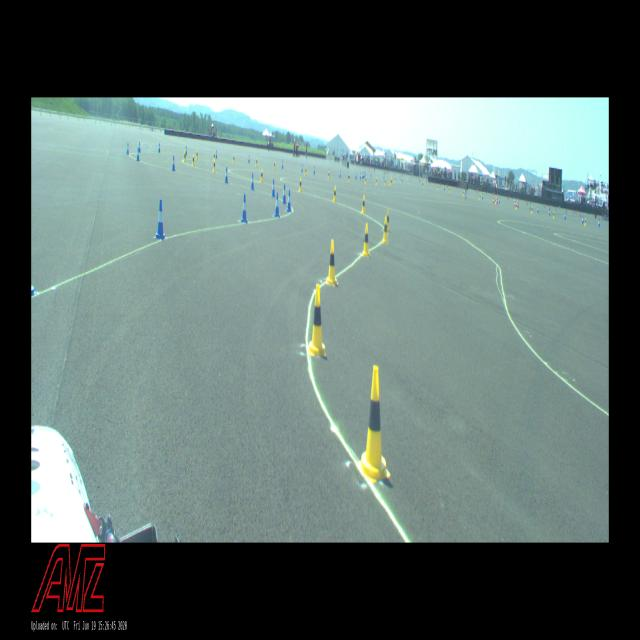blue_cone: (155, 199, 165, 239), (241, 194, 248, 223), (274, 192, 280, 218), (287, 190, 291, 211), (282, 184, 286, 204), (136, 146, 140, 160), (272, 179, 275, 197), (251, 173, 254, 190), (225, 167, 228, 183), (172, 156, 175, 170), (215, 150, 218, 159), (127, 142, 129, 154), (139, 140, 141, 152), (158, 144, 160, 152), (248, 155, 250, 163), (339, 170, 341, 178), (564, 213, 566, 220), (598, 220, 600, 227), (186, 146, 187, 155), (582, 216, 583, 224), (314, 166, 315, 174), (537, 206, 538, 213), (282, 161, 283, 168), (549, 210, 550, 216), (356, 172, 356, 179), (302, 164, 302, 172)
yellow_cone: (358, 365, 390, 483), (307, 284, 326, 357), (326, 239, 338, 286), (362, 223, 370, 257), (382, 216, 388, 244), (362, 194, 366, 213), (387, 210, 390, 232), (333, 186, 336, 202), (299, 177, 302, 192), (260, 168, 263, 182), (213, 158, 216, 172), (192, 154, 195, 166), (184, 150, 186, 163), (255, 158, 258, 166), (196, 150, 198, 160), (213, 152, 215, 161), (233, 154, 235, 163), (274, 161, 276, 170), (328, 171, 330, 180), (304, 167, 306, 176), (584, 218, 586, 226), (552, 211, 554, 218), (531, 206, 533, 213), (384, 179, 386, 186), (515, 203, 517, 210), (376, 177, 377, 186), (365, 177, 366, 184), (495, 197, 496, 204)
